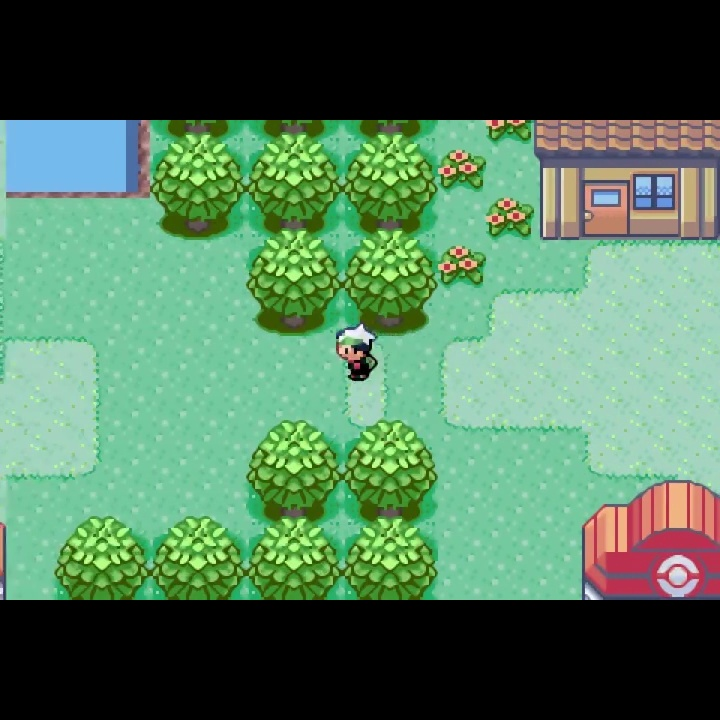house: (533, 119, 720, 244)
npc: (334, 321, 381, 381)
pokecen: (580, 478, 720, 598)
wall: (246, 227, 344, 337), (150, 135, 249, 241), (344, 229, 439, 339), (246, 418, 343, 517), (343, 418, 439, 518), (246, 134, 343, 232), (342, 134, 437, 231), (244, 516, 344, 599), (342, 515, 438, 599), (54, 515, 150, 599), (149, 515, 245, 599), (246, 120, 342, 142), (152, 120, 245, 142), (342, 121, 438, 142)
